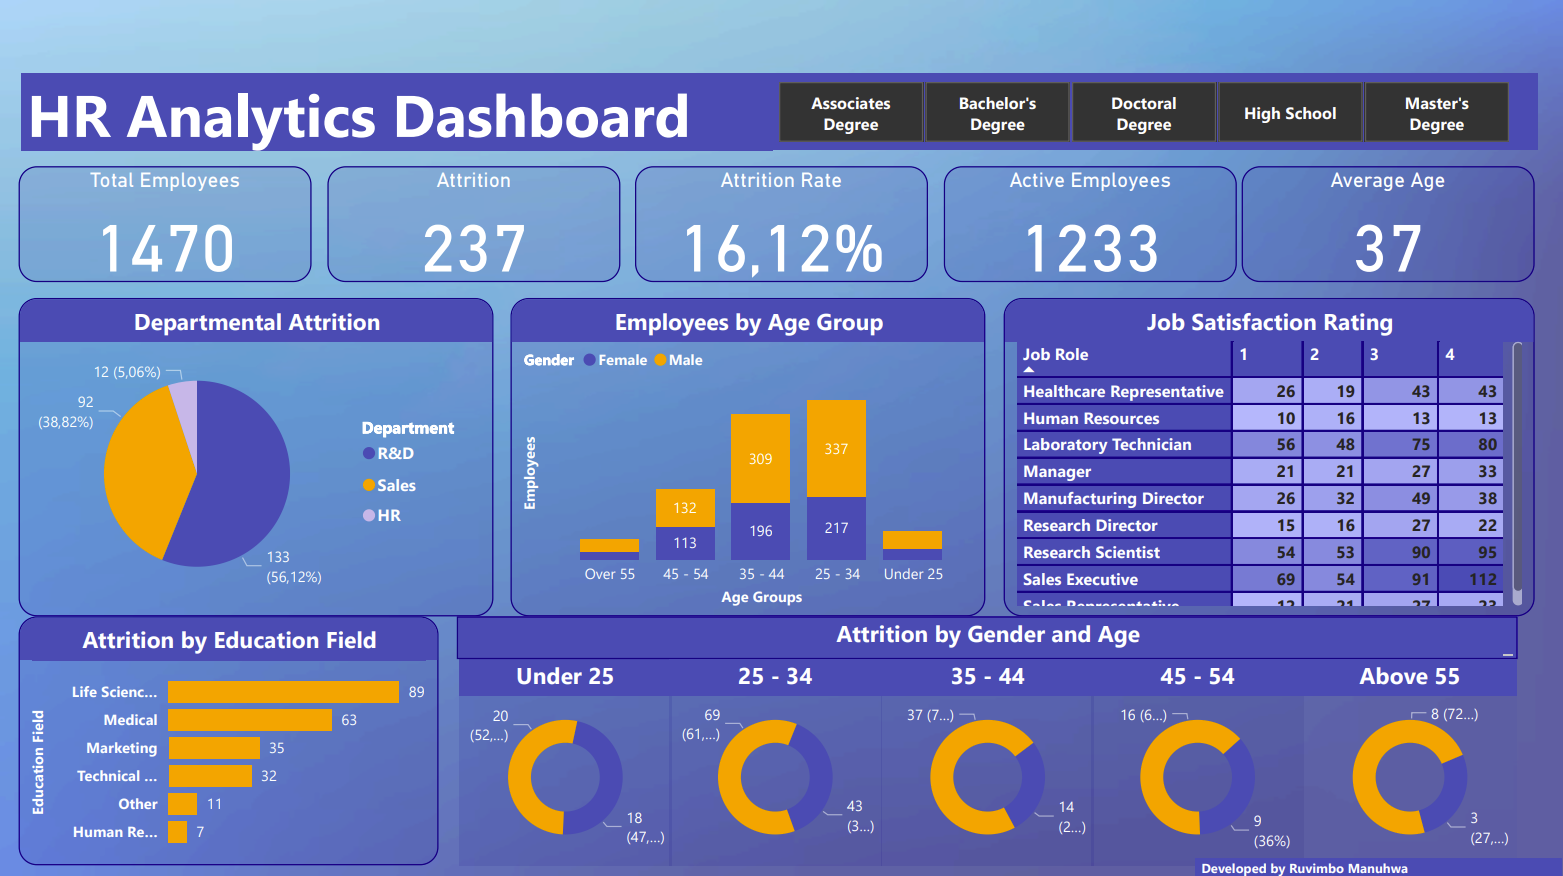

The page's visual inventory and layout, read from the dashboard file:
{"tool":"powerbi","page":{"name":"Page 1","canvas":[1280,720],"ordinal":0},"visuals":[{"type":"card","title":"Total Employees","fields":{"Values":["HR data.Employee Count"]},"box":[15.1,136.1,240,94.5],"z":0},{"type":"card","title":"Attrition","fields":{"Values":["HR data.Attrition Count"]},"box":[268.3,136.1,240,94.5],"z":1000},{"type":"card","title":"Attrition Rate","fields":{"Values":["HR data.Attrition Rate"]},"box":[519.7,136.1,240,94.5],"z":2000},{"type":"card","title":"Active Employees","fields":{"Values":["HR data.Active Employees"]},"box":[772.9,136.1,240,94.5],"z":3000},{"type":"card","title":"Average Age","fields":{"Values":["HR data.Age"]},"box":[1016.7,136.1,240,94.5],"z":4000},{"type":"pieChart","title":"Departmental Attrition","fields":{"Category":["HR data.Department"],"Y":["HR data.Attrition Count"]},"box":[15.1,243.8,389.3,260.8],"z":5000},{"type":"columnChart","title":"Employees by Age Group","fields":{"Category":["HR data.CF_age band"],"Y":["HR data.Employee Count"],"Series":["HR data.Gender"]},"box":[417.6,243.8,389.3,260.8],"z":6000},{"type":"pivotTable","title":"Job Satisfaction Rating","fields":{"Rows":["HR data.Job Role"],"Columns":["HR data.Job Satisfaction"],"Values":["HR data.Employee Count"]},"box":[822.1,243.8,434.6,260.8],"z":7000},{"type":"barChart","title":"Attrition by Education Field","fields":{"Category":["HR data.Education Field"],"Y":["HR data.Attrition Count"]},"box":[15.1,504.6,343.9,204.1],"z":8000},{"type":"donutChart","title":"Under 25","fields":{"Category":["HR data.Gender"],"Y":["HR data.Attrition Count"],"Series":["HR data.CF_age band"]},"box":[376.1,540.5,173.9,168.2],"z":9000},{"type":"textbox","title":"Attrition by Gender and Age","box":[374.2,504.6,869.3,35.9],"z":10000},{"type":"donutChart","title":"25 - 34","fields":{"Category":["HR data.Gender"],"Y":["HR data.Attrition Count"],"Series":["HR data.CF_age band"]},"box":[548,540.5,173.9,168.2],"z":11000},{"type":"donutChart","title":"35 - 44","fields":{"Category":["HR data.Gender"],"Y":["HR data.Attrition Count"],"Series":["HR data.CF_age band"]},"box":[721.9,540.5,173.9,168.2],"z":12000},{"type":"donutChart","title":"45 - 54","fields":{"Category":["HR data.Gender"],"Y":["HR data.Attrition Count"],"Series":["HR data.CF_age band"]},"box":[893.9,540.5,173.9,168.2],"z":13000},{"type":"donutChart","title":"Above 55","fields":{"Category":["HR data.Gender"],"Y":["HR data.Attrition Count"],"Series":["HR data.CF_age band"]},"box":[1067.7,540.5,173.9,168.2],"z":14000},{"type":"textbox","title":"HR Analytics Dashboard","box":[17,60.5,616.1,62.4],"z":20000},{"type":"slicer","fields":{"Values":["HR data.Education"]},"box":[612.3,60.5,648.2,62.4],"z":21000},{"type":"textbox","title":"Developed by Ruvimbo Manuhwa","box":[978.9,703,300.5,17],"z":22000}]}

Visuals, with their boxes in screenshot pixels (x1, y1, x2, y2), scaled from the page's 1280x720 canvas onto the 1563x876 screenshot:
"Total Employees" card: Rect(18, 166, 312, 281)
"Attrition" card: Rect(328, 166, 621, 281)
"Attrition Rate" card: Rect(635, 166, 928, 281)
"Active Employees" card: Rect(944, 166, 1237, 281)
"Average Age" card: Rect(1241, 166, 1535, 281)
"Departmental Attrition" pieChart: Rect(18, 297, 494, 614)
"Employees by Age Group" columnChart: Rect(510, 297, 985, 614)
"Job Satisfaction Rating" pivotTable: Rect(1004, 297, 1535, 614)
"Attrition by Education Field" barChart: Rect(18, 614, 438, 862)
"Under 25" donutChart: Rect(459, 658, 672, 862)
"Attrition by Gender and Age" textbox: Rect(457, 614, 1518, 658)
"25 - 34" donutChart: Rect(669, 658, 882, 862)
"35 - 44" donutChart: Rect(882, 658, 1094, 862)
"45 - 54" donutChart: Rect(1092, 658, 1304, 862)
"Above 55" donutChart: Rect(1304, 658, 1516, 862)
"HR Analytics Dashboard" textbox: Rect(21, 74, 773, 150)
slicer - HR data.Education: Rect(748, 74, 1539, 150)
"Developed by Ruvimbo Manuhwa" textbox: Rect(1195, 855, 1562, 875)
